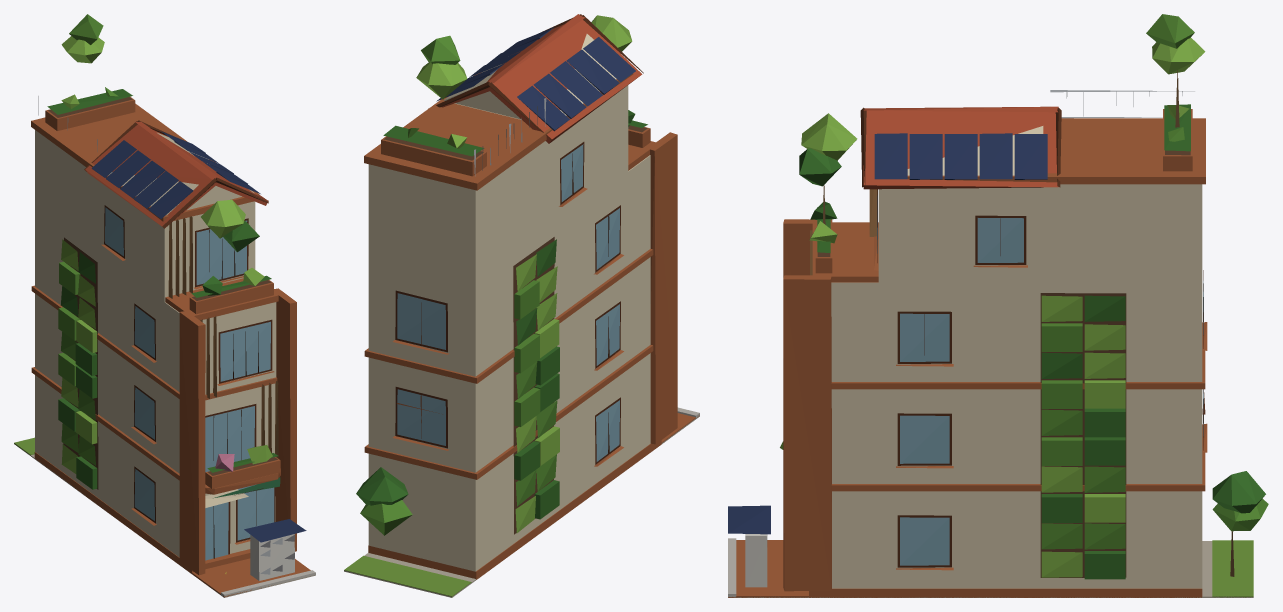
The model's file is bay2_one.glb.
The picture shows the model from 3 angles, left to right: view 1: azimuth 30°, elevation 25°; view 2: azimuth 150°, elevation 25°; view 3: azimuth 270°, elevation 25°; orthographic projection. The views are drawn at different scales.
Parts seen in each view (by area): view 1: body; view 2: body; view 3: body.
Boxes of the visible parts, x1,y1,x2,y2 form: body: [14, 14, 315, 597]; body: [344, 14, 699, 597]; body: [728, 14, 1268, 597].
Bounding box in the file's own units: 4.65 × 18.43 × 16.36.
